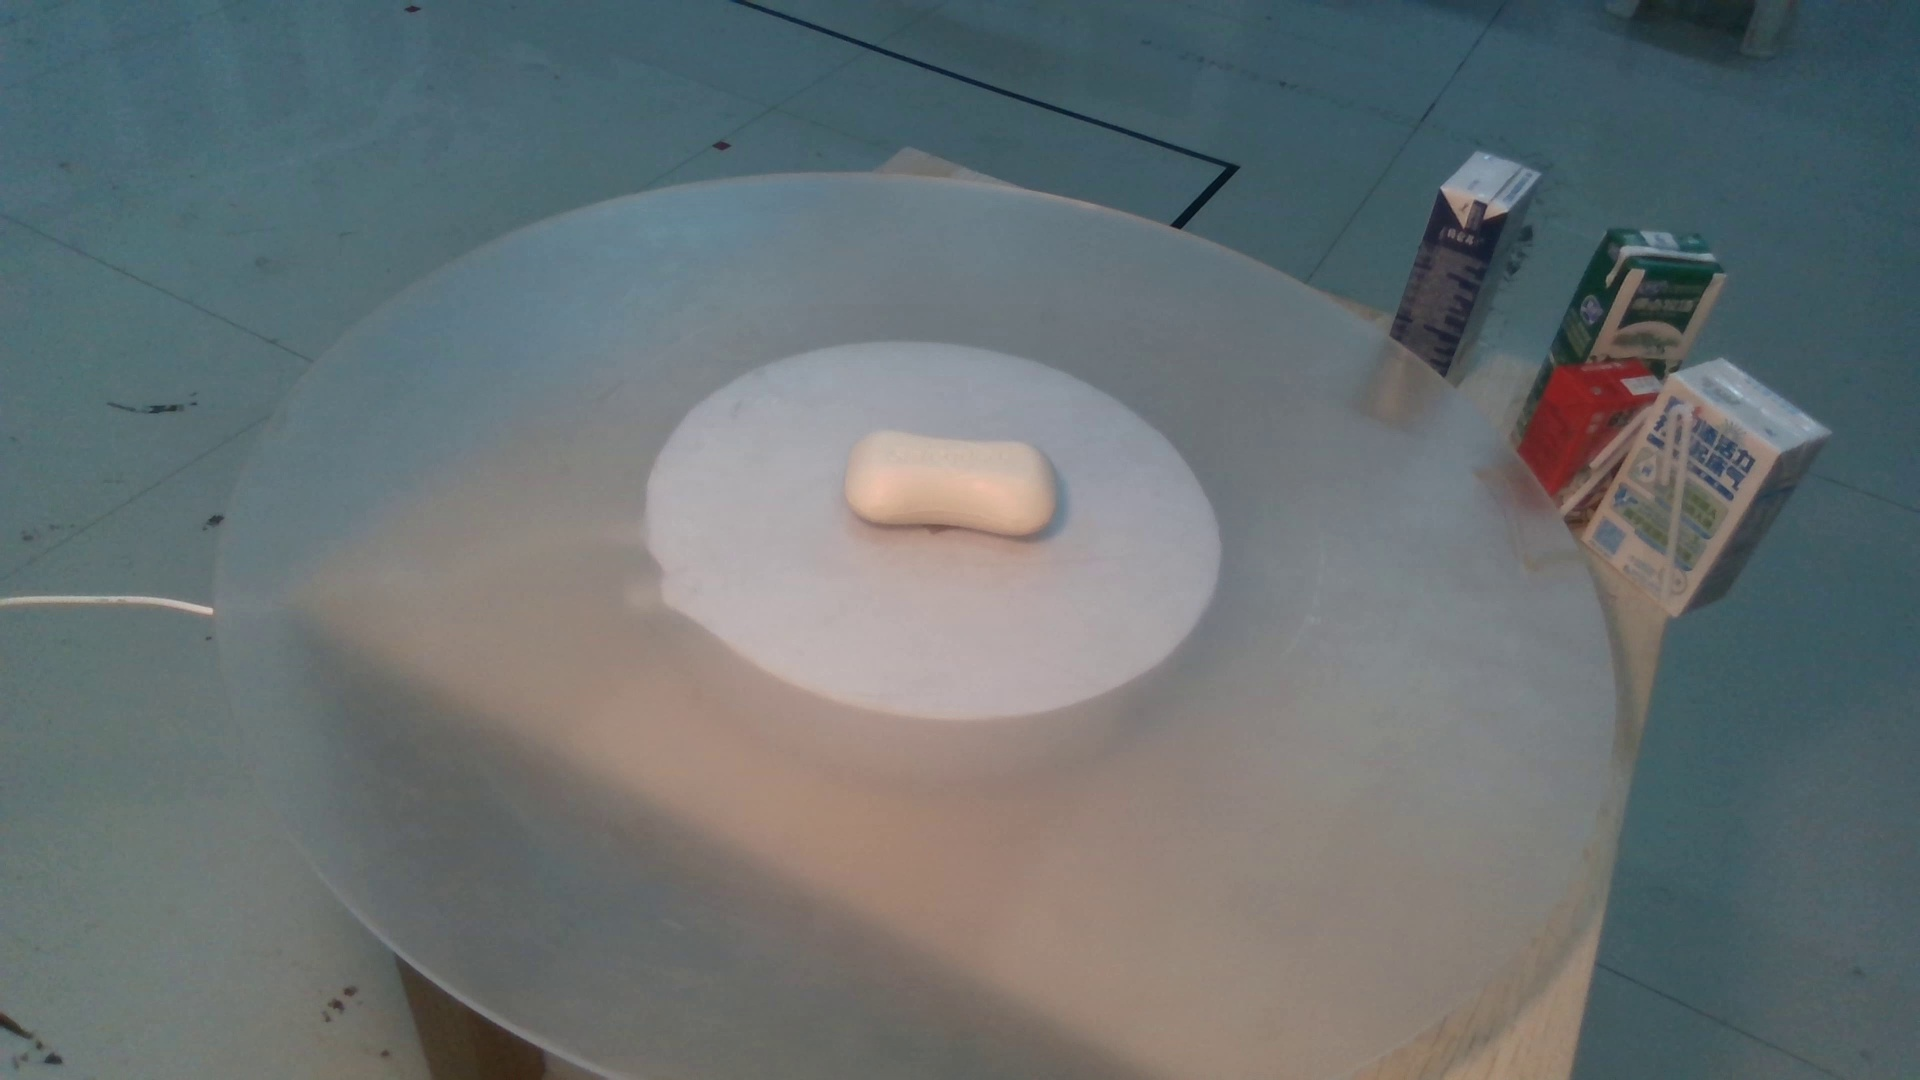CA003_1: (837, 389, 1100, 562)
